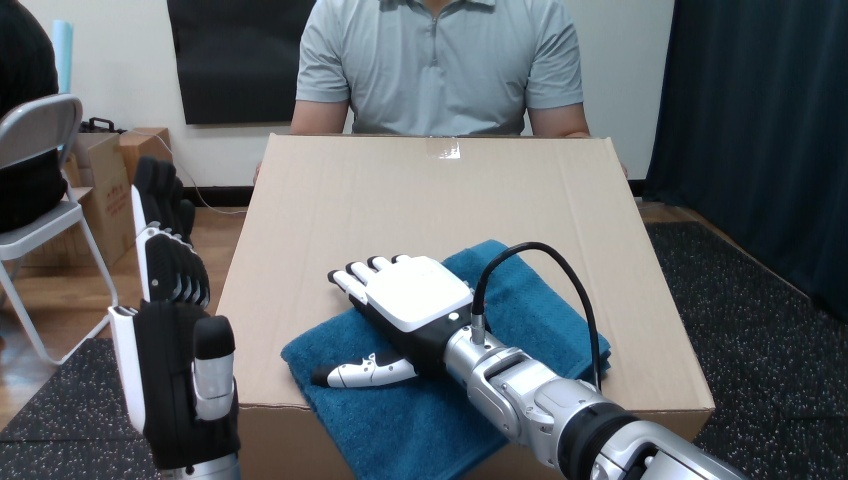left robot hand: (313, 242, 743, 479), (483, 249, 594, 386)
